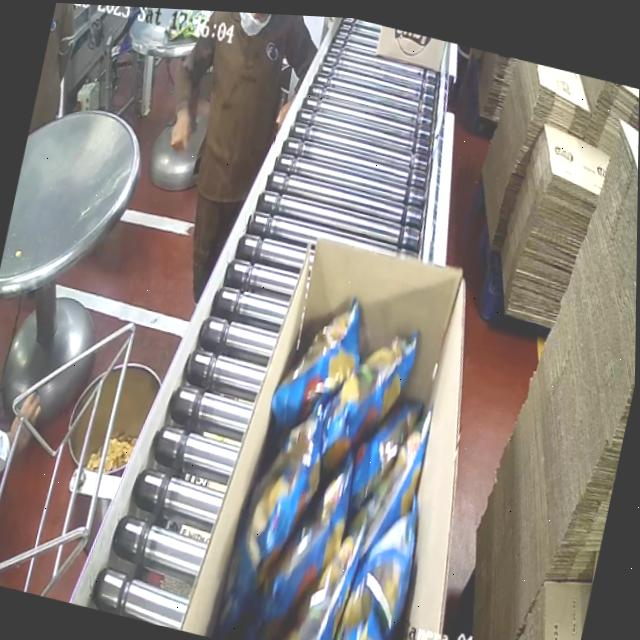PAPRIKA: (222, 292, 470, 640)
